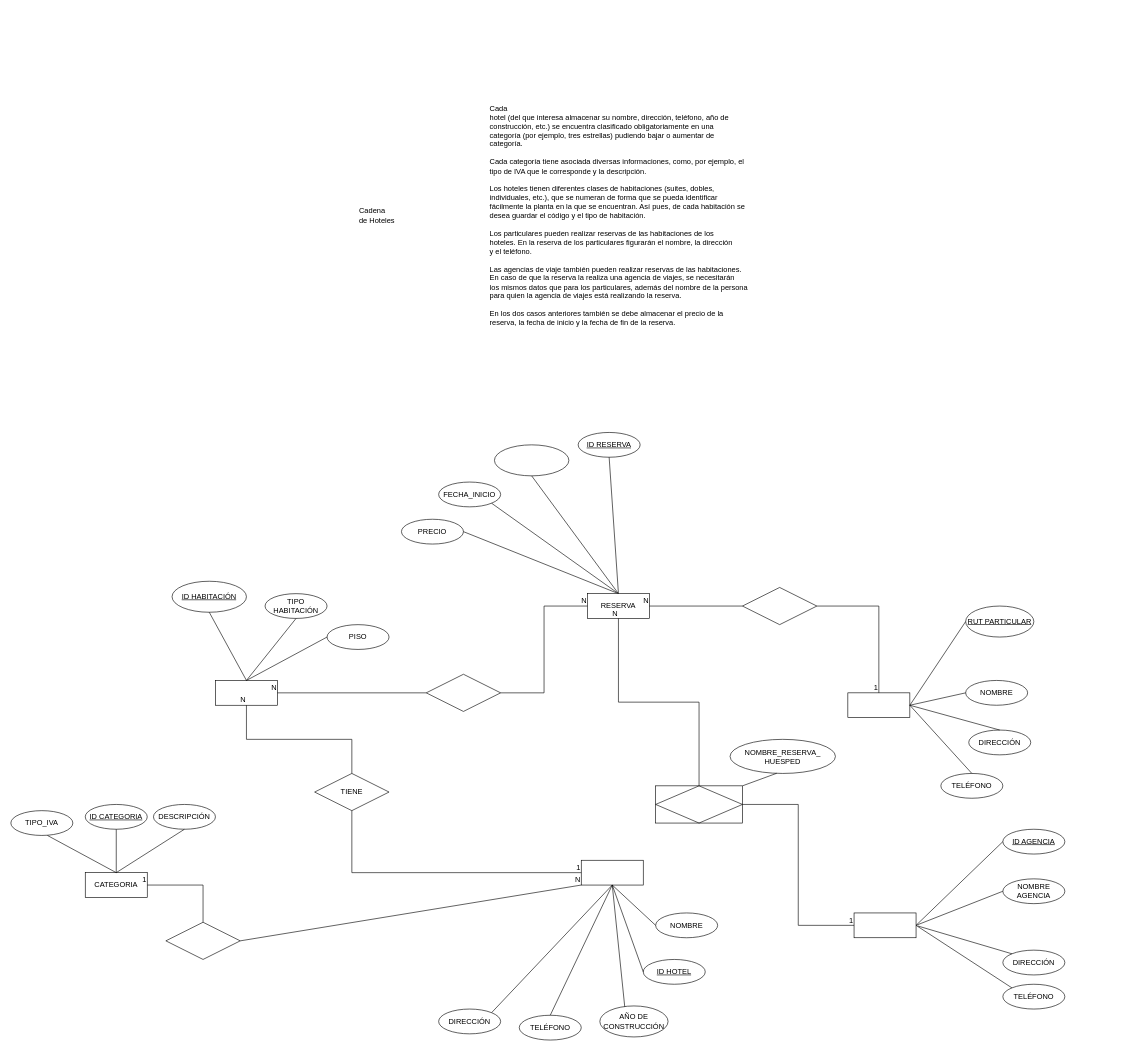
This 1132x1051 diagram has some shape labels left out. Here are the shapes that lost their labels. From the top down, the box of each, then its label:
(494, 444, 569, 476): FECHA_TÉRMINO
(742, 587, 817, 625): REALIZA
(215, 680, 277, 705): HABITACION
(426, 674, 501, 711): INCLUYE
(847, 692, 910, 718): PARTICULAR
(655, 785, 742, 823): GESTIONA
(581, 860, 643, 885): HOTEL
(165, 922, 240, 959): CLASIFICA
(853, 912, 916, 938): AGENCIA
